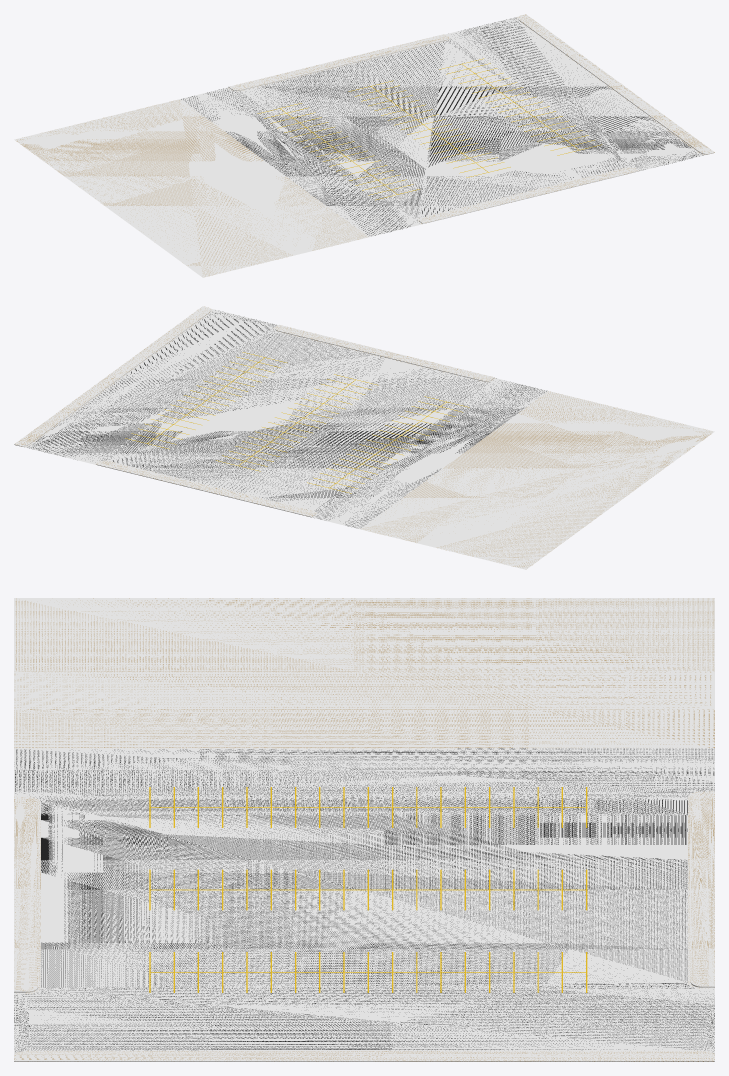
The picture shows the model from 3 angles, top to bottom: view 1: azimuth 30°, elevation 25°; view 2: azimuth 150°, elevation 25°; view 3: azimuth 270°, elevation 25°; orthographic projection. The views are drawn at different scales.
Parts seen in each view (by area): view 1: SketchUp (×8); view 2: SketchUp (×8); view 3: SketchUp (×8).
Boxes of the visible parts, bbox=[...] form: SketchUp (×8): bbox=[14, 14, 714, 277]; SketchUp (×8): bbox=[14, 306, 714, 569]; SketchUp (×8): bbox=[14, 598, 714, 1061].
Bounding box in the file's own units: 4298 × 2746 × 4.4.
